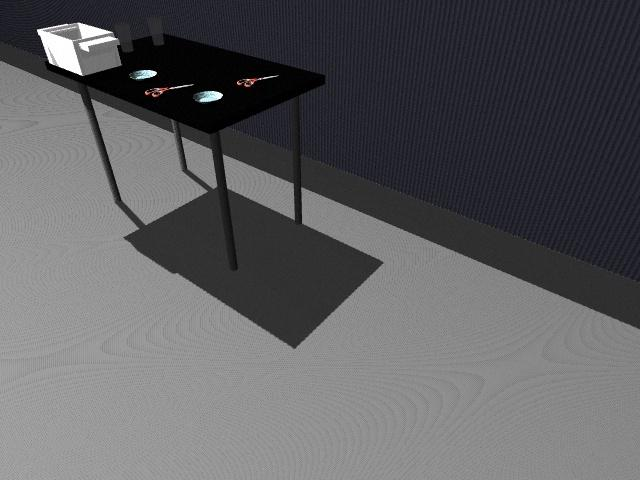cup: (113, 22, 133, 53), (146, 16, 164, 46)
plate: (192, 90, 224, 103), (128, 69, 158, 80)
scissors: (146, 83, 196, 98), (237, 75, 279, 87)
